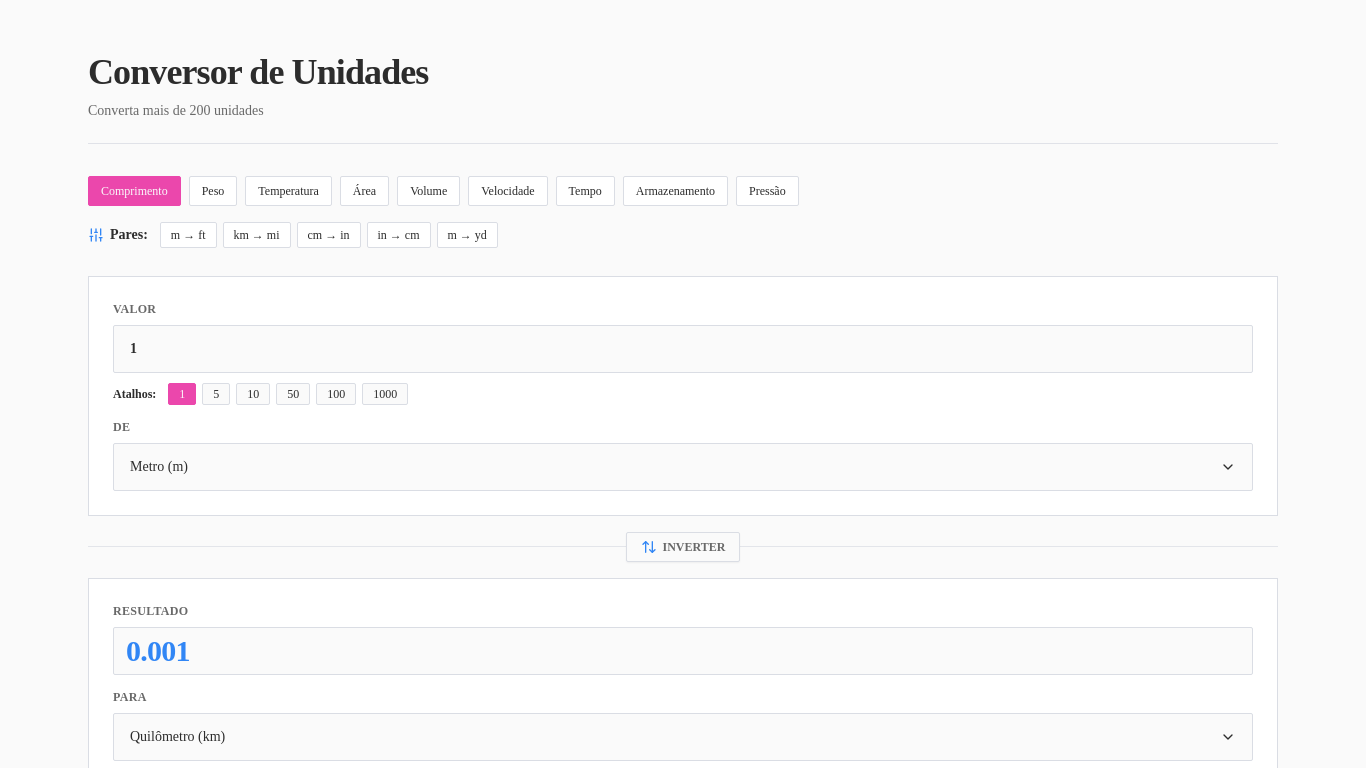
Test: UnitConverterClient › swaps units and updates input value
Click the button labelled "Inverter" at (683, 547), box [626,532,740,562]
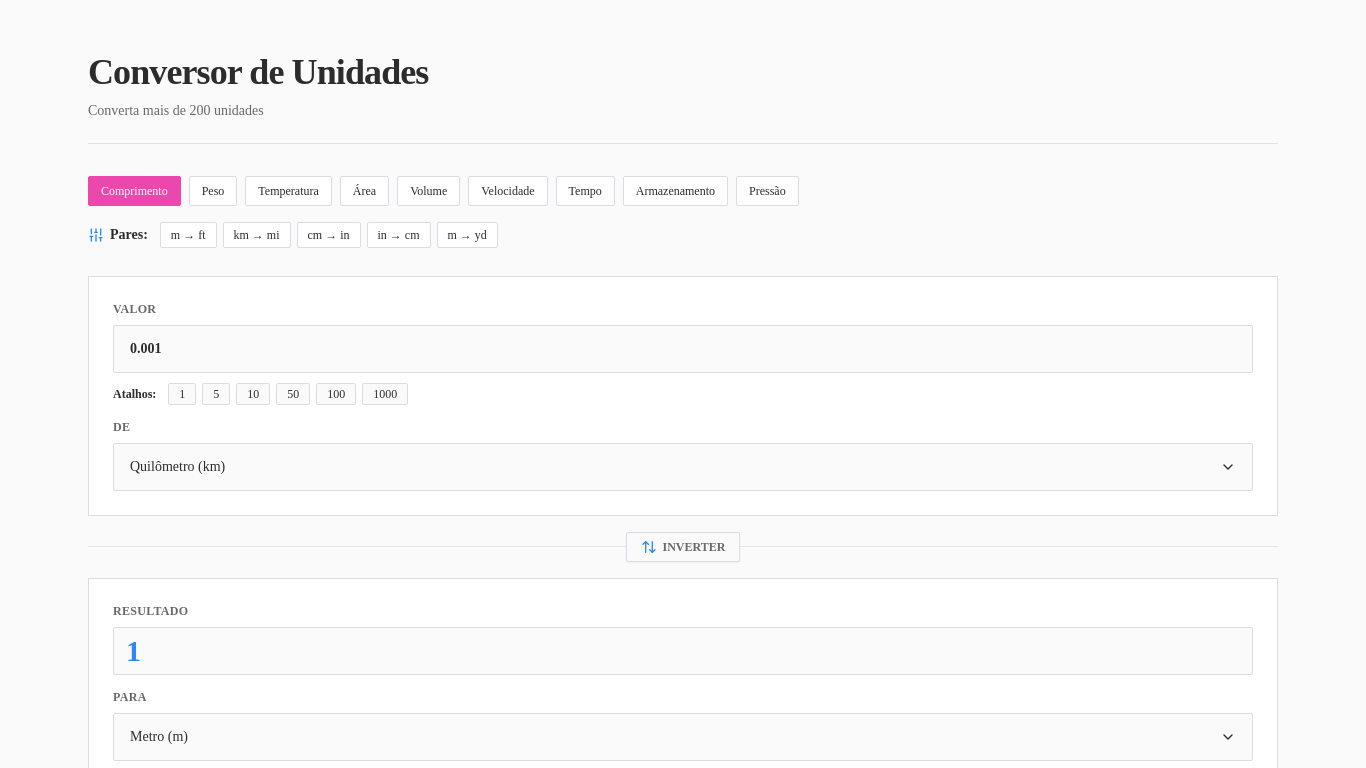
Expected: the dropdown named "Para" shows "Metro", [113,713,1253,761]
Expected: the dropdown named "De" shows "Quilômetro", [113,443,1253,491]
